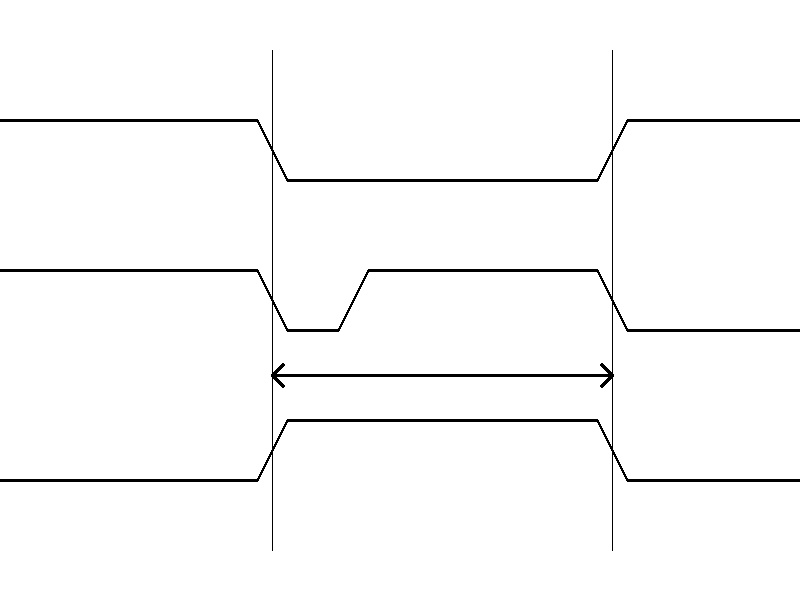double_arrow: (272, 360, 612, 390)
